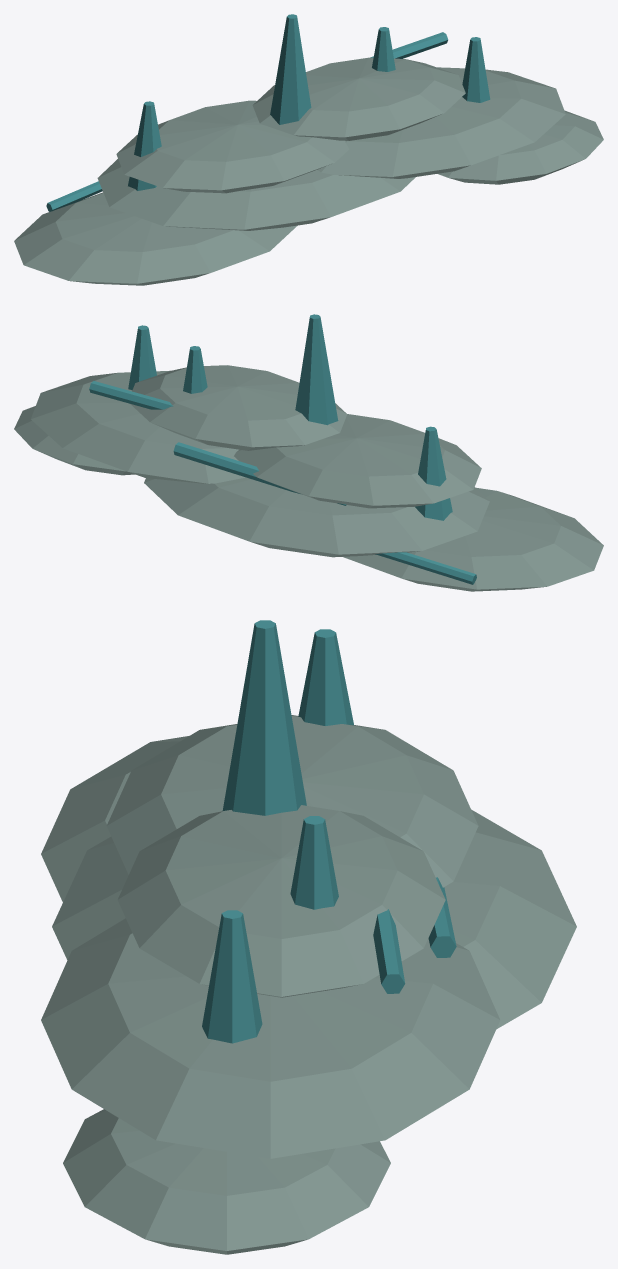
Rendered from silica_cliff_a.obj.
The picture shows the model from 3 angles, top to bottom: view 1: azimuth 30°, elevation 25°; view 2: azimuth 150°, elevation 25°; view 3: azimuth 270°, elevation 25°; orthographic projection. The views are drawn at different scales.
Parts seen in each view (by area): view 1: laminated_shelf_0, laminated_shelf_4, laminated_shelf_2, laminated_shelf_1, laminated_shelf_5, laminated_shelf_3, silica_growth_1, silica_growth_3, silica_growth_0, silica_growth_2, exposed_seam_2, exposed_seam_0; view 2: laminated_shelf_1, laminated_shelf_4, laminated_shelf_0, laminated_shelf_5, laminated_shelf_2, silica_growth_1, laminated_shelf_3, silica_growth_0, exposed_seam_1, silica_growth_3, exposed_seam_0, exposed_seam_2 (+1 smaller); view 3: laminated_shelf_2, laminated_shelf_5, laminated_shelf_3, laminated_shelf_4, laminated_shelf_1, silica_growth_1, laminated_shelf_0, silica_growth_3, silica_growth_0, silica_growth_2, exposed_seam_2, exposed_seam_1.
Boxes of the visible parts, box(x1,y1,x2,y2) form: laminated_shelf_0: box(14, 192, 297, 285); laminated_shelf_4: box(116, 100, 349, 193); laminated_shelf_2: box(317, 67, 565, 178); laminated_shelf_1: box(97, 159, 415, 230); laminated_shelf_5: box(252, 57, 465, 140); laminated_shelf_3: box(437, 110, 603, 184); silica_growth_1: box(270, 14, 311, 124); silica_growth_3: box(462, 37, 490, 102); silica_growth_0: box(128, 101, 161, 190); silica_growth_2: box(372, 27, 395, 71); exposed_seam_2: box(370, 32, 448, 58); exposed_seam_0: box(46, 181, 102, 211); laminated_shelf_1: box(144, 477, 489, 557); laminated_shelf_4: box(234, 414, 481, 508); laminated_shelf_0: box(343, 487, 603, 591); laminated_shelf_5: box(130, 365, 347, 450); laminated_shelf_2: box(31, 370, 245, 483); silica_growth_1: box(295, 314, 338, 425); laminated_shelf_3: box(14, 406, 134, 475); silica_growth_0: box(415, 426, 452, 520); exposed_seam_1: box(173, 442, 346, 505); silica_growth_3: box(128, 325, 156, 390); exposed_seam_0: box(375, 552, 476, 584); exposed_seam_2: box(89, 381, 173, 409); laminated_shelf_2: box(41, 918, 500, 1158); laminated_shelf_5: box(117, 805, 445, 997); laminated_shelf_3: box(63, 1109, 390, 1254); laminated_shelf_4: box(106, 715, 478, 887); laminated_shelf_1: box(52, 809, 576, 1029); silica_growth_1: box(222, 620, 306, 815); laminated_shelf_0: box(41, 736, 188, 901); silica_growth_3: box(202, 910, 262, 1043); silica_growth_0: box(298, 629, 353, 725); silica_growth_2: box(290, 816, 338, 909); exposed_seam_2: box(373, 909, 405, 993); exposed_seam_1: box(428, 877, 456, 957).
Bounding box in the file's own units: 11.9 × 4.15 × 4.9.
